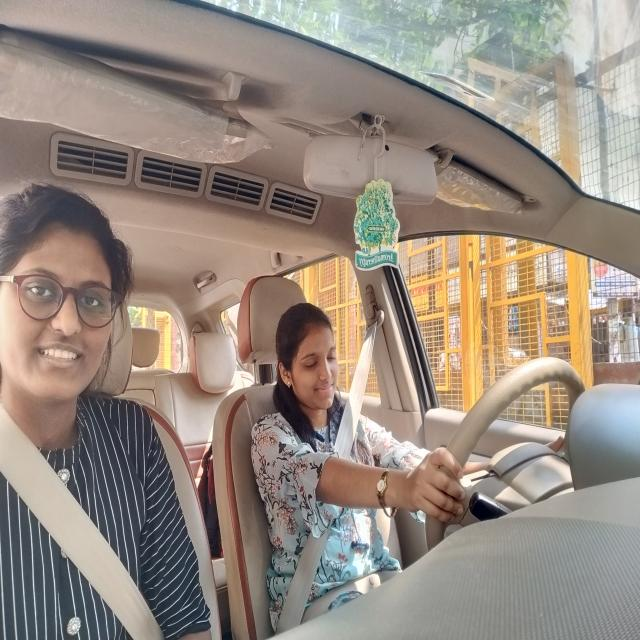drowsy: (268, 298, 342, 414)
person: (0, 184, 124, 410)
